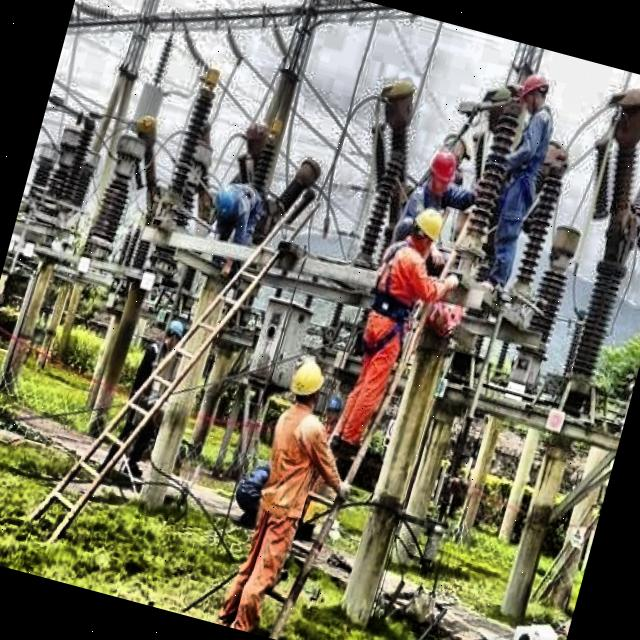helmet: (282, 356, 331, 417), (404, 197, 450, 260), (418, 141, 466, 199), (512, 70, 554, 121), (156, 314, 188, 355), (318, 390, 345, 429)
